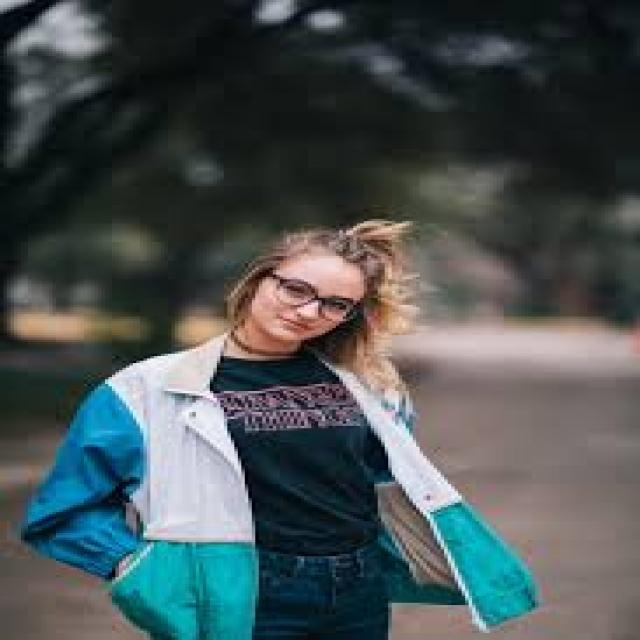Jacket: (21, 334, 576, 640)
